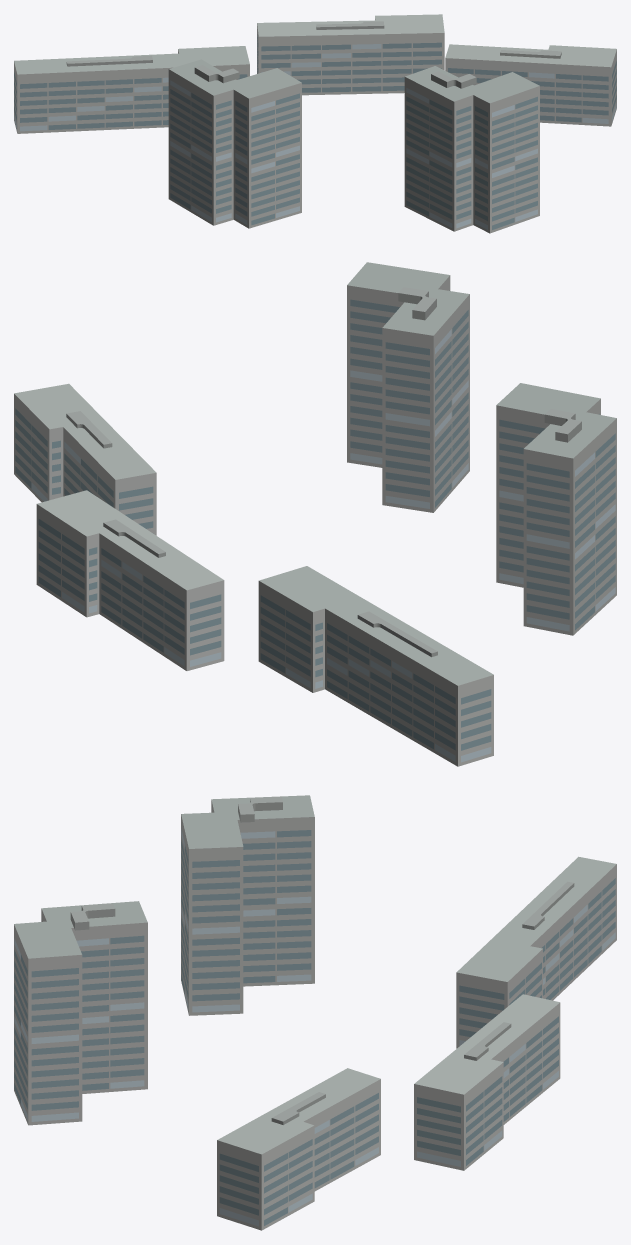
File: apt-a10025397.glb
3 views of the same model, one above another, from view 1: azimuth 30°, elevation 25°; view 2: azimuth 150°, elevation 25°; view 3: azimuth 270°, elevation 25° (orthographic). The views are drawn at different scales.
Parts seen in each view (by area): view 1: apt-a10025397; view 2: apt-a10025397; view 3: apt-a10025397.
Boxes of the visible parts, x1,y1,x2,y2 form: apt-a10025397: (14, 14, 616, 233); apt-a10025397: (14, 262, 616, 766); apt-a10025397: (14, 795, 616, 1230).
Bounding box in the file's own units: 168 × 46 × 144.
